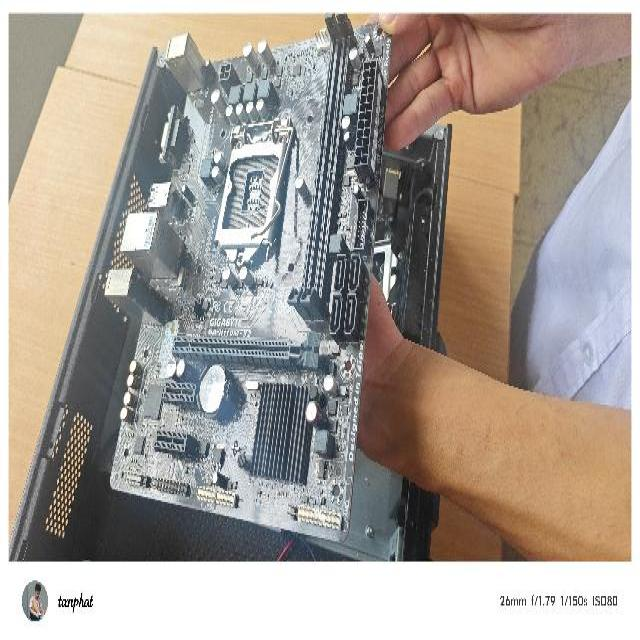Mainboard: (103, 9, 393, 548)
